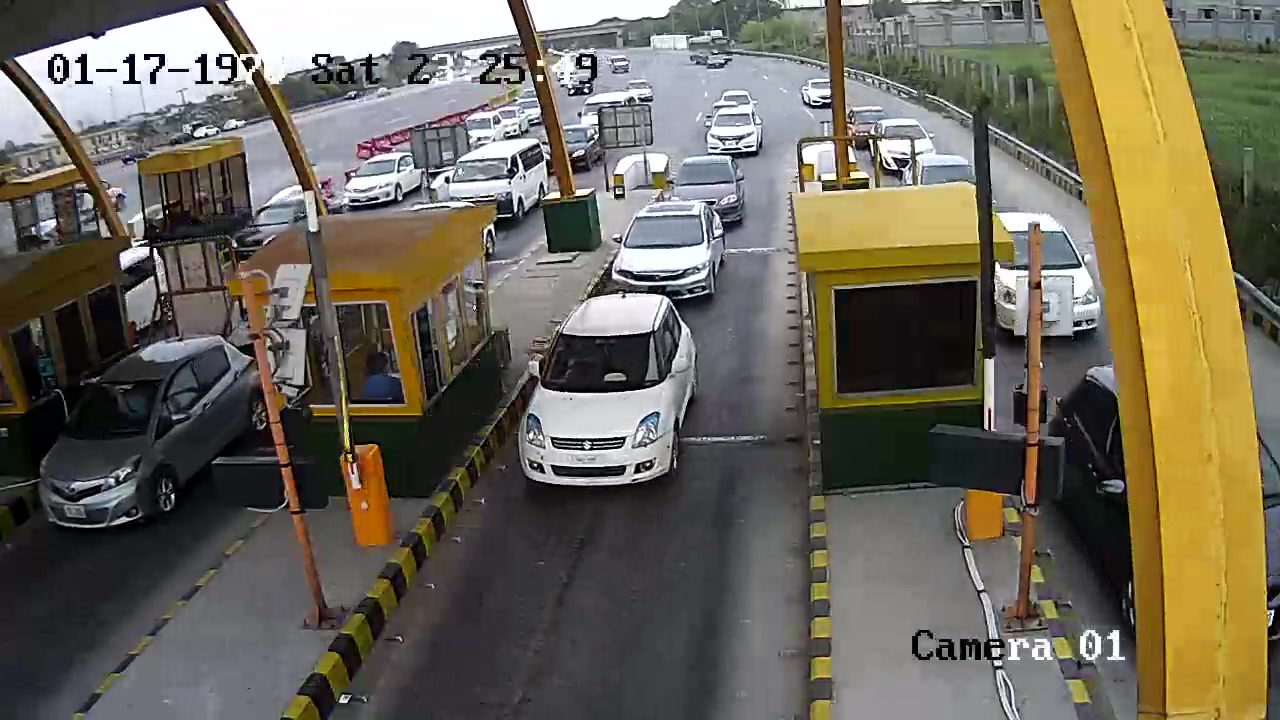F1: (502, 293, 709, 498)
